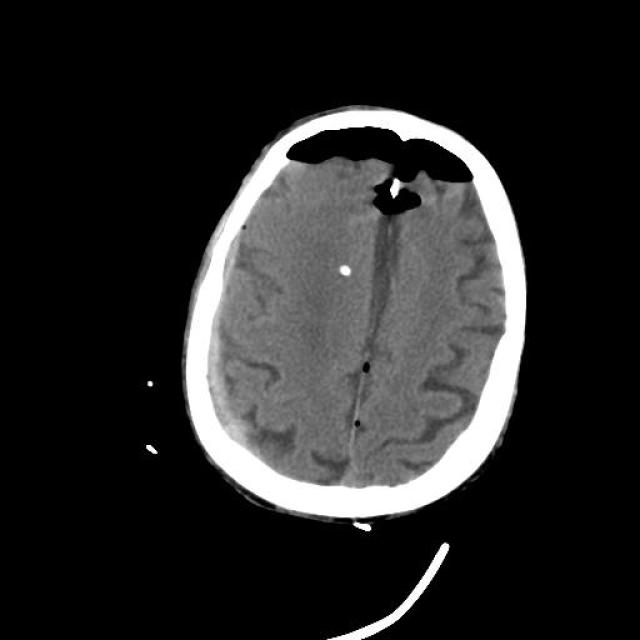Subdural: (168, 218, 294, 462)
